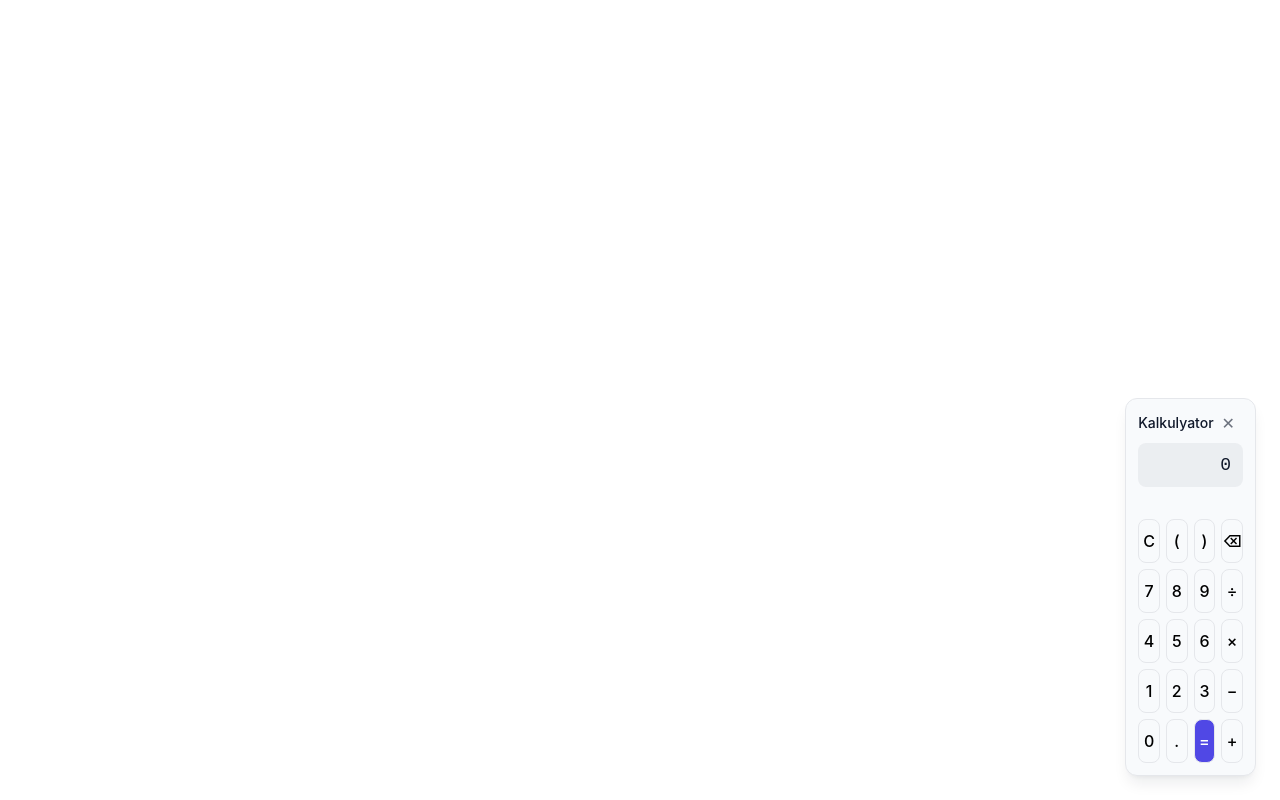
Test: ExamCalculator › supports clear and backspace
This screenshot has width=1280, height=800.
Click the button "1" at point(1149, 691), box [1138,669,1160,713]
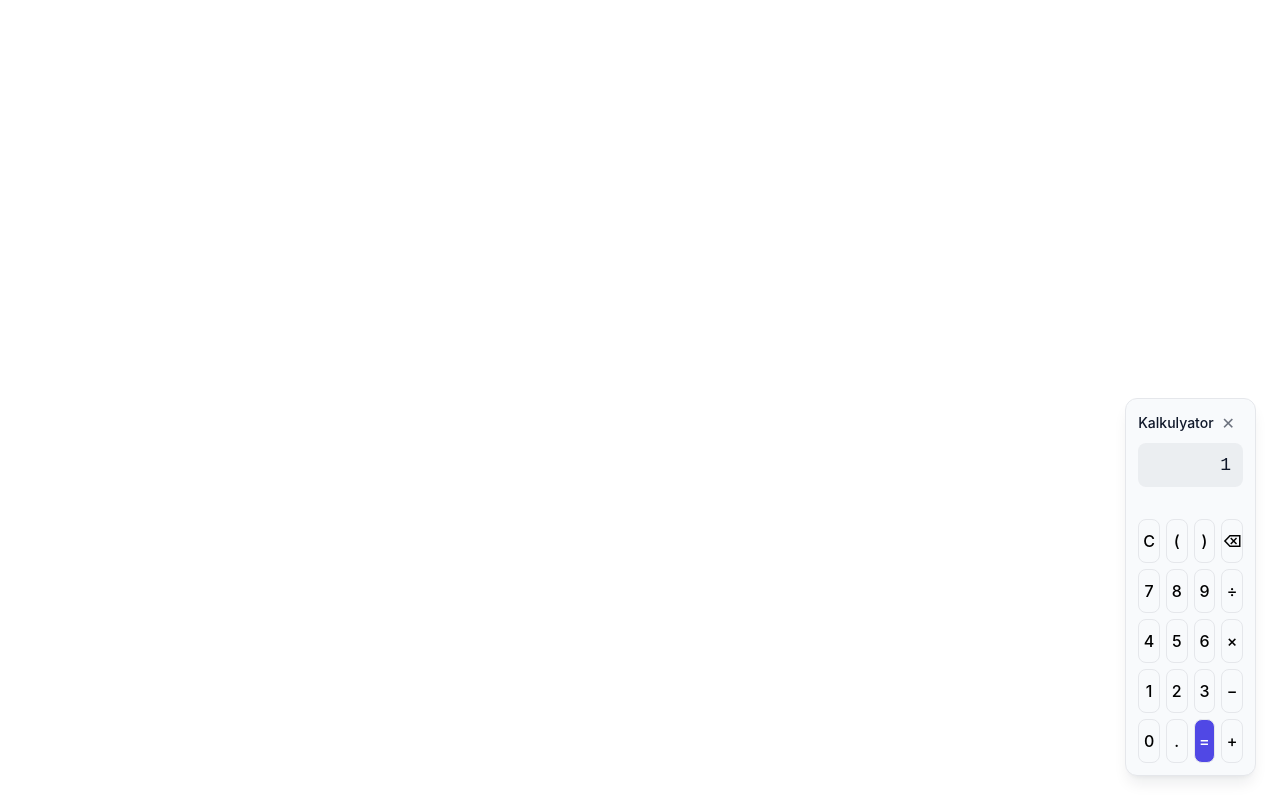
Click the button "2" at point(1177, 691), box [1166,669,1188,713]
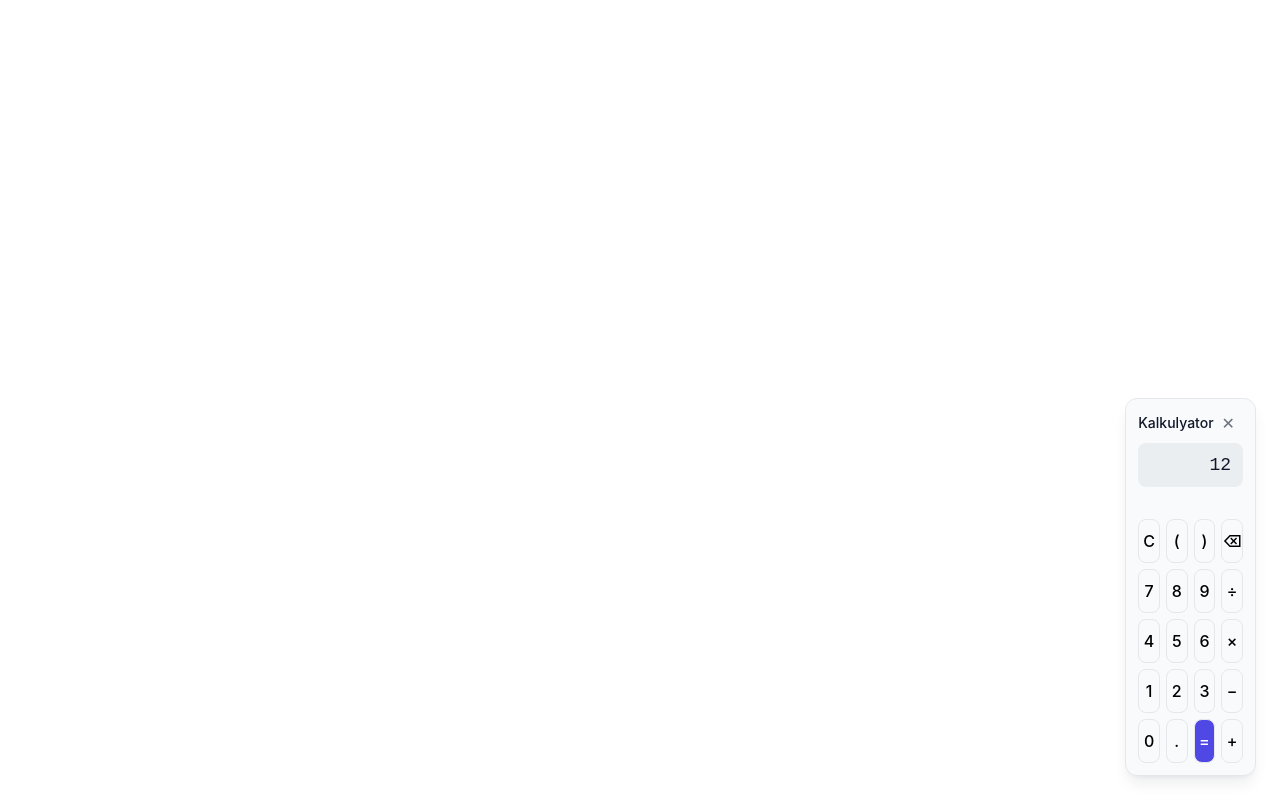
Click the button "3" at point(1204, 691), box [1194,669,1215,713]
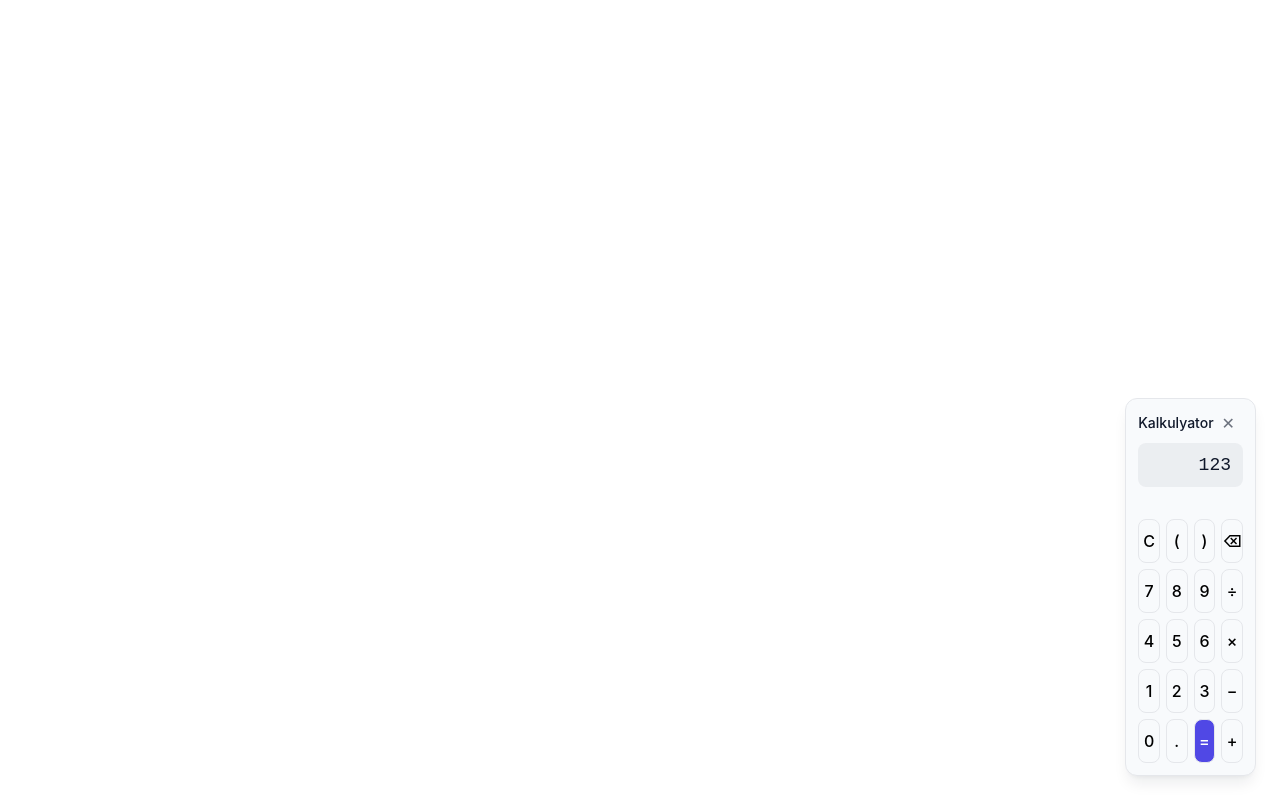
Click the button named "O'chirish" at point(1232, 541), box [1221,519,1243,563]
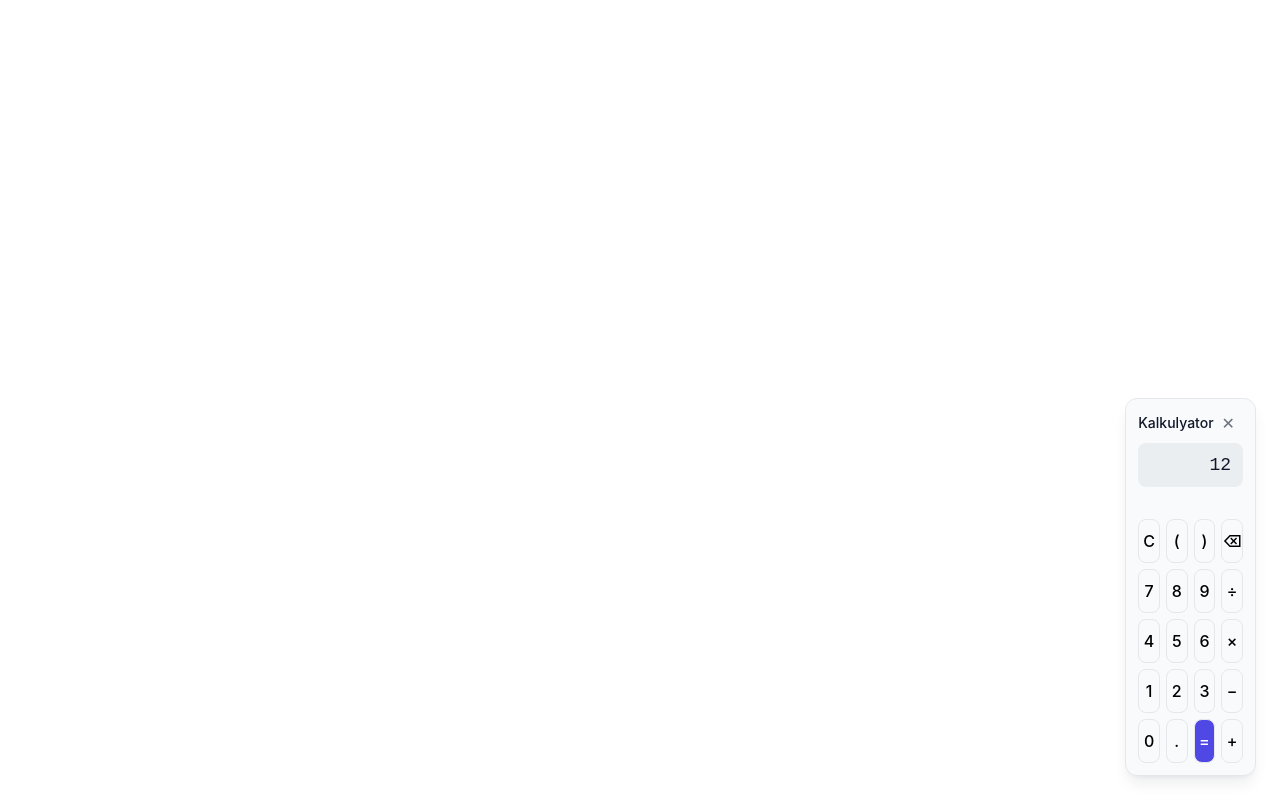
Check: the text with test id "calc-display" reads "12", box [1209,455,1231,475]
Click the button named "Tozalash" at point(1149, 541), box [1138,519,1160,563]
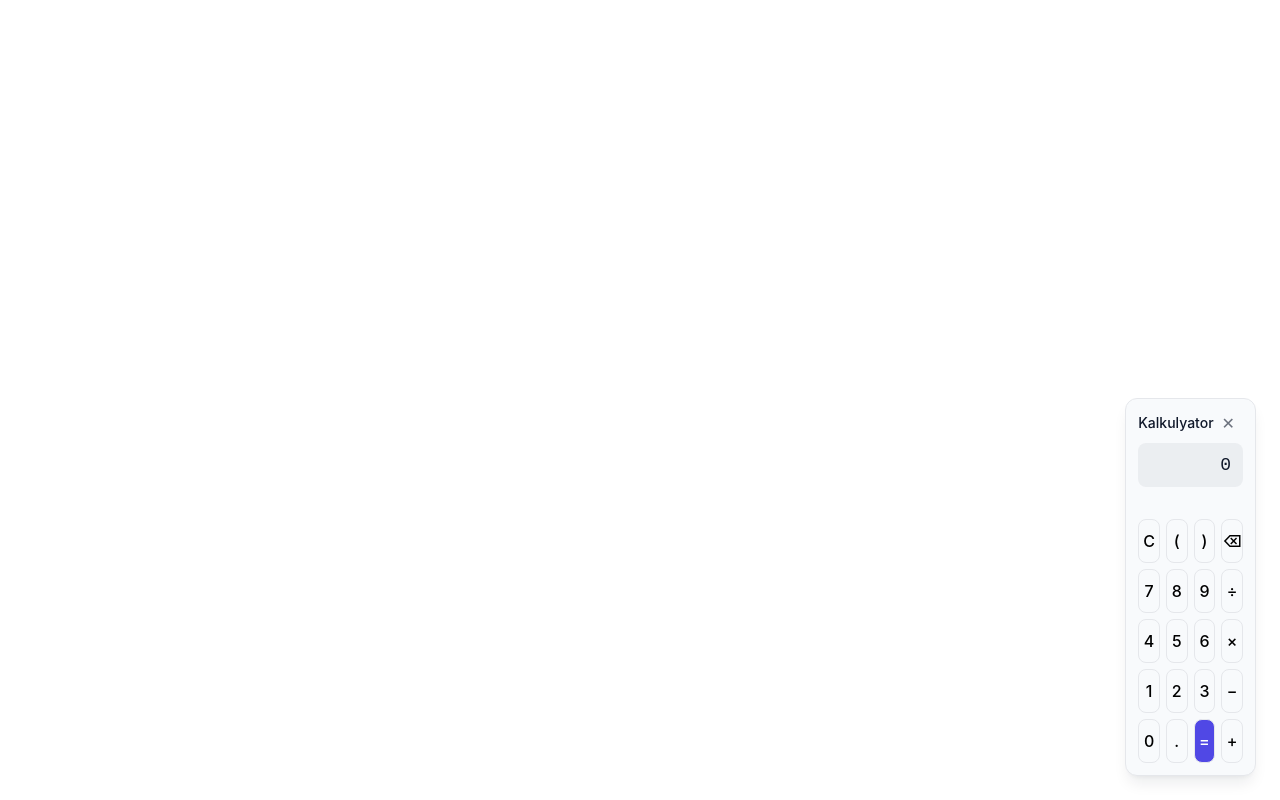
Check: the text with test id "calc-display" reads "0", box [1220,455,1231,475]
